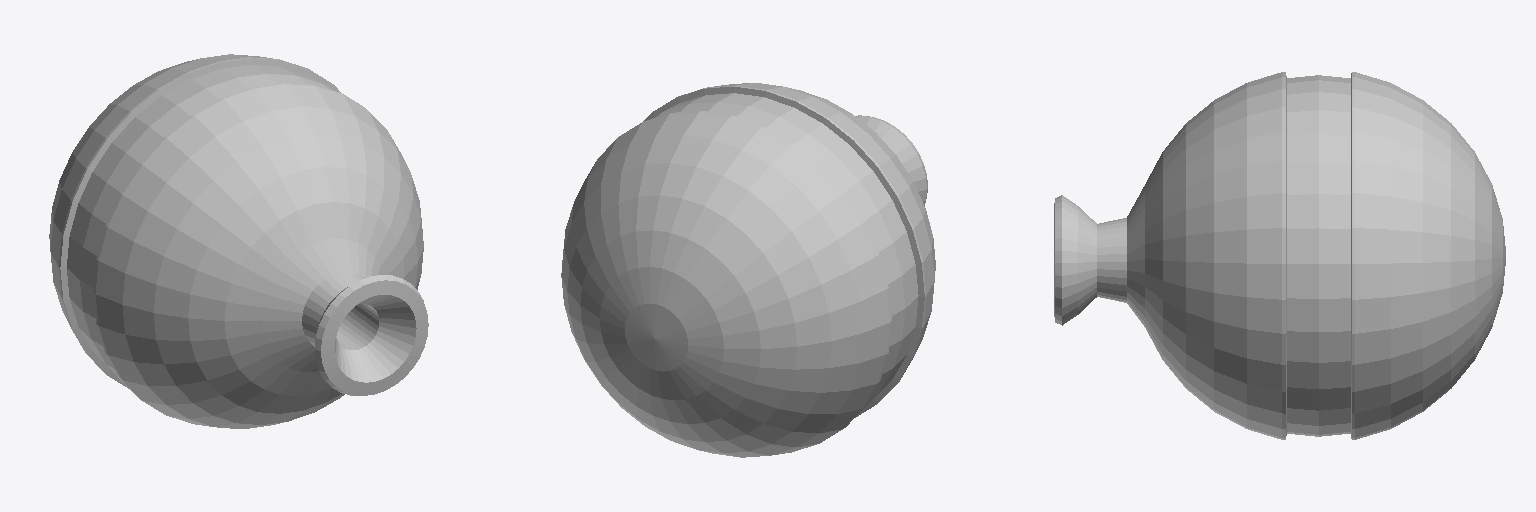
The model's file is vase1.obj.
The picture shows the model from 3 angles: view 1: azimuth 30°, elevation 25°; view 2: azimuth 150°, elevation 25°; view 3: azimuth 270°, elevation 25°; orthographic projection.
Visible parts, largest first — view 1: vase1; view 2: vase1; view 3: vase1.
Part boxes in pixels (x1,y1,x2,y2): vase1: (49,54,428,428); vase1: (561,83,935,457); vase1: (1054,72,1505,439).
Bounding box in the file's own units: 1.97 × 1.97 × 2.41.